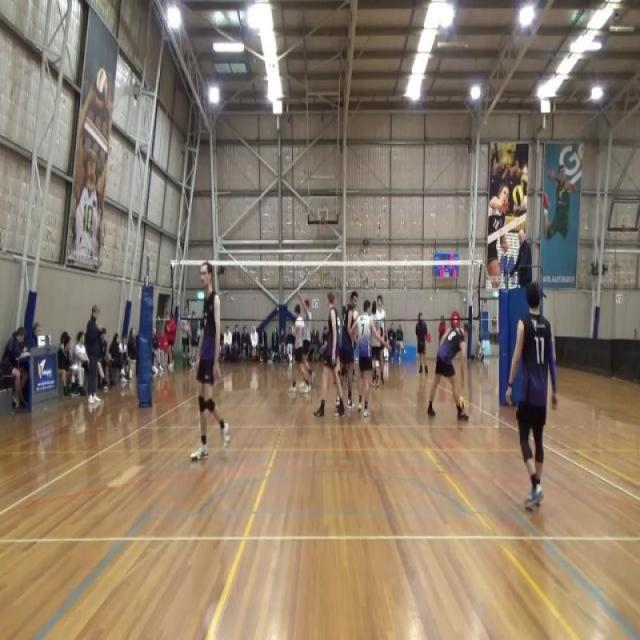volleyball: (94, 67, 108, 111), (511, 184, 526, 208), (458, 396, 466, 411)
